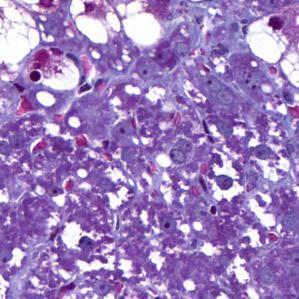ballooning: (244, 12, 297, 89), (28, 41, 85, 96), (5, 7, 44, 71), (66, 4, 125, 46), (109, 7, 166, 49)
